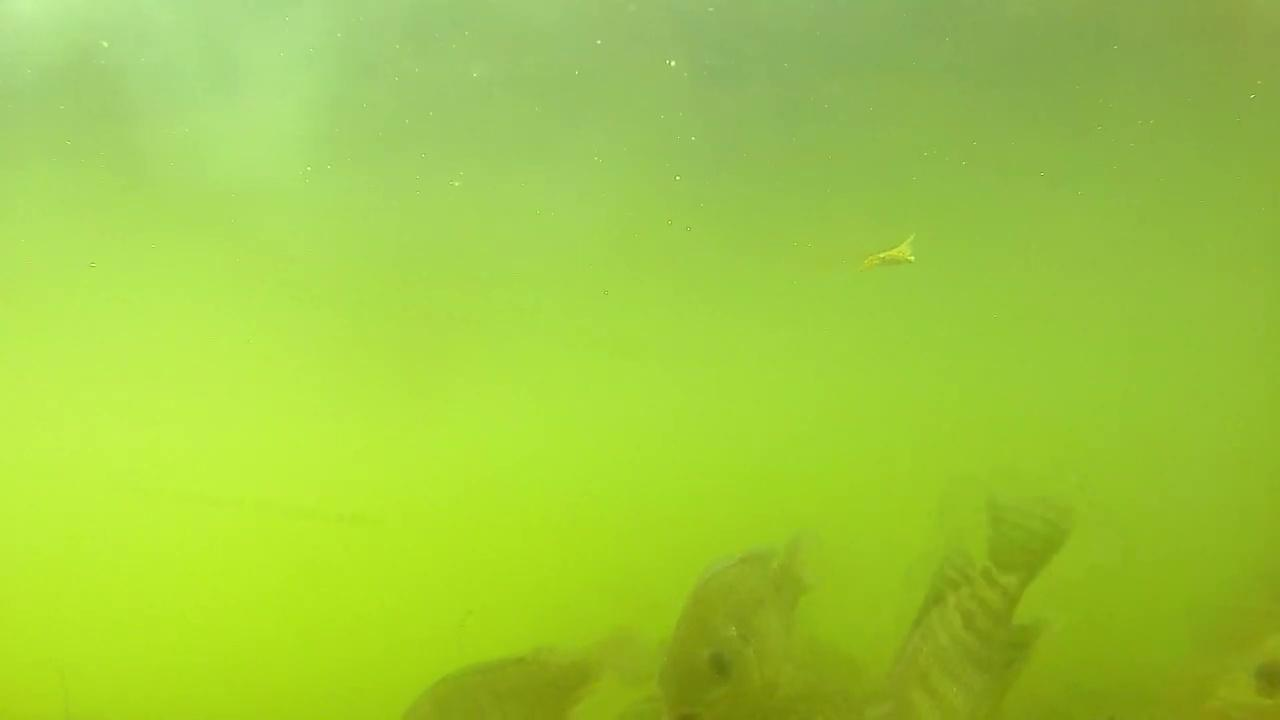Tilapia: (649, 532, 806, 718)
